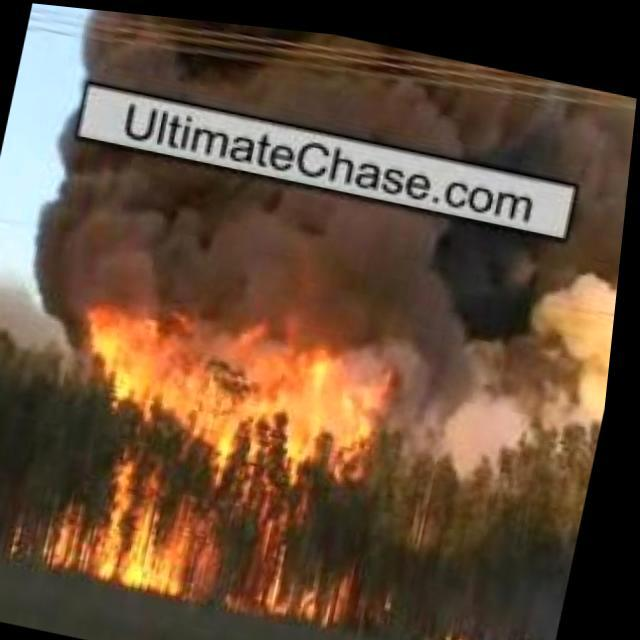fire: (46, 292, 427, 624), (448, 624, 532, 640)
